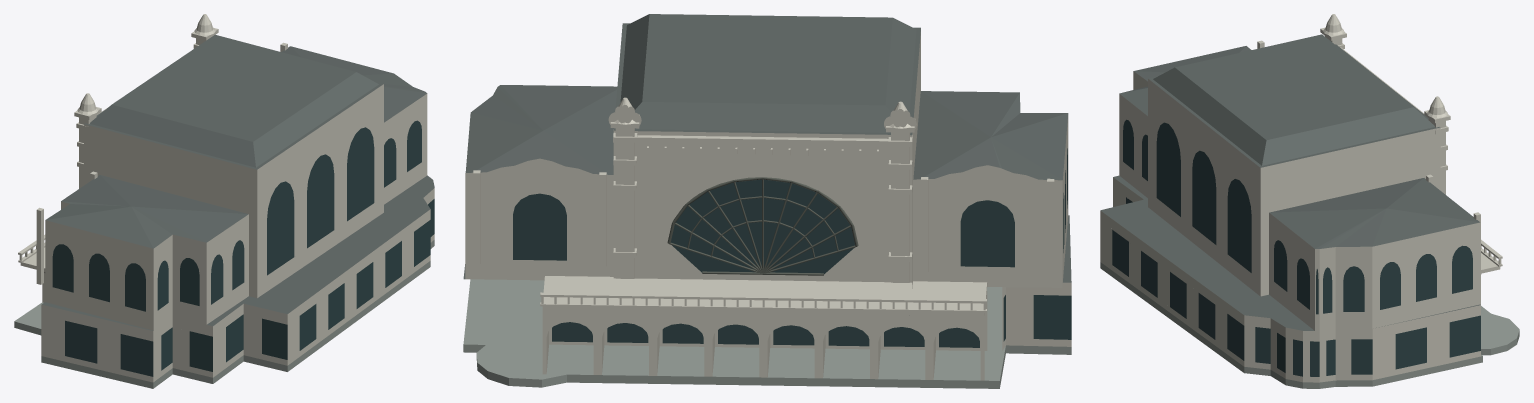
Rendered from constanta-casino-far.glb.
The picture shows the model from 3 angles, left to right: view 1: azimuth 30°, elevation 25°; view 2: azimuth 150°, elevation 25°; view 3: azimuth 270°, elevation 25°; orthographic projection. The views are drawn at different scales.
Visible parts, largest first — view 1: constanta-casino-0-stone, constanta-casino-0-roof, constanta-casino-0-glass, constanta-casino-0-base; view 2: constanta-casino-0-stone, constanta-casino-0-roof, constanta-casino-0-glass, constanta-casino-0-base, constanta-casino-0-frame; view 3: constanta-casino-0-stone, constanta-casino-0-roof, constanta-casino-0-glass, constanta-casino-0-base.
Boxes of the visible parts, x1,y1,x2,y2 form: constanta-casino-0-stone: (18,14,434,382); constanta-casino-0-roof: (42,34,434,330); constanta-casino-0-glass: (52,120,434,376); constanta-casino-0-base: (14,240,434,388); constanta-casino-0-stone: (465,32,1071,380); constanta-casino-0-roof: (463,14,1071,282); constanta-casino-0-glass: (513,148,1071,347); constanta-casino-0-base: (463,279,1071,388); constanta-casino-0-frame: (667,177,858,275); constanta-casino-0-stone: (1100,14,1502,382); constanta-casino-0-roof: (1100,34,1480,330); constanta-casino-0-glass: (1112,119,1480,376); constanta-casino-0-base: (1100,262,1519,388).
Bounding box in the file's own units: 54.94 × 26.5 × 47.3.
